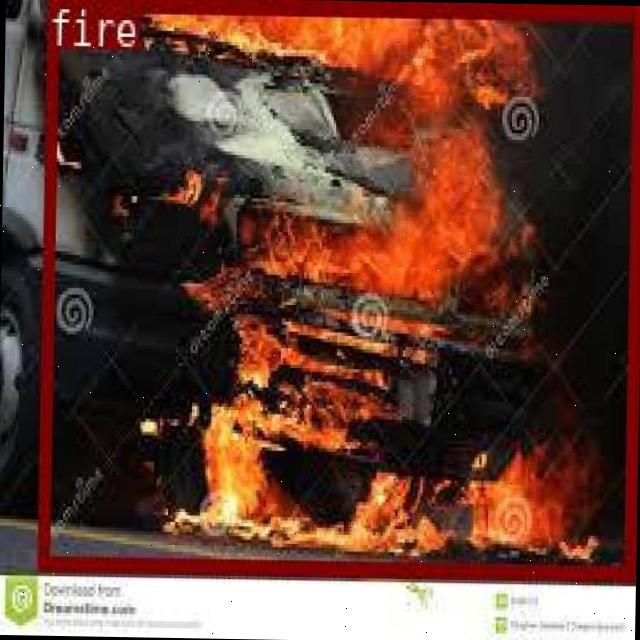fire: (34, 0, 640, 575)
